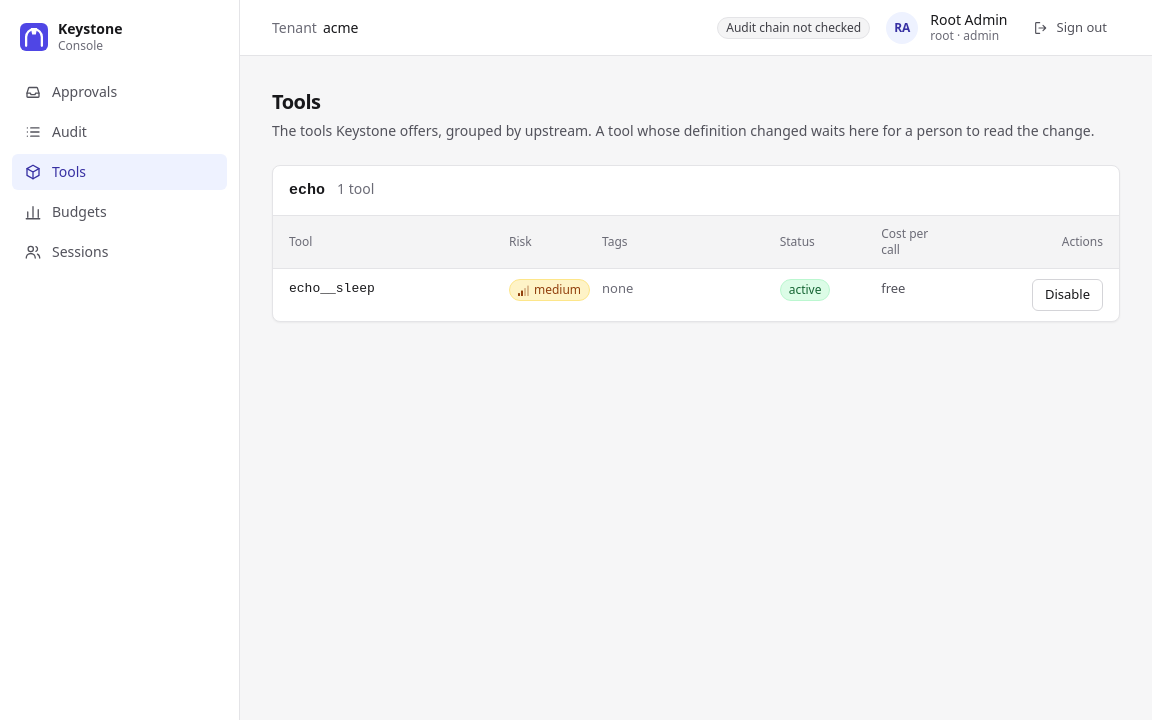
Test case: disables an active tool and enables a disabled one
Click the button with aria-label "Disable echo__sleep".
click(1068, 294)  # box [1032,278,1103,310]
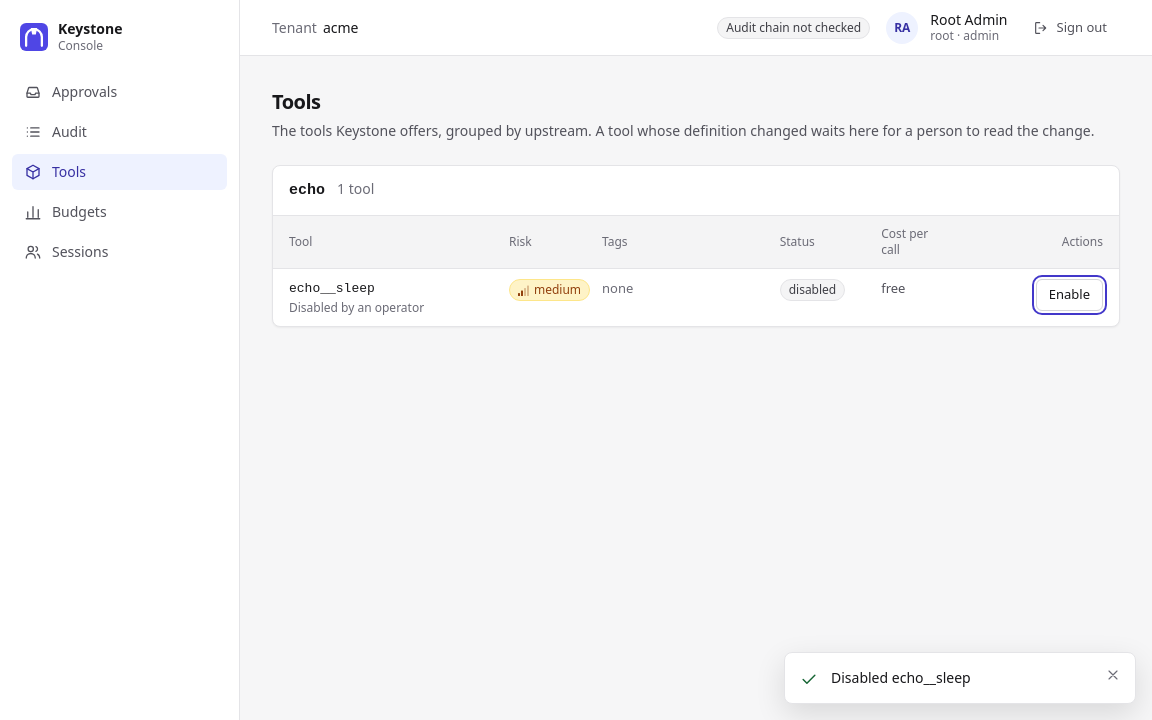
Now the text "Disabled echo__sleep" is shown, box [831,668,971,687]
Click the button with aria-label "Enable echo__sleep".
click(1069, 294)  # box [1036,278,1103,310]
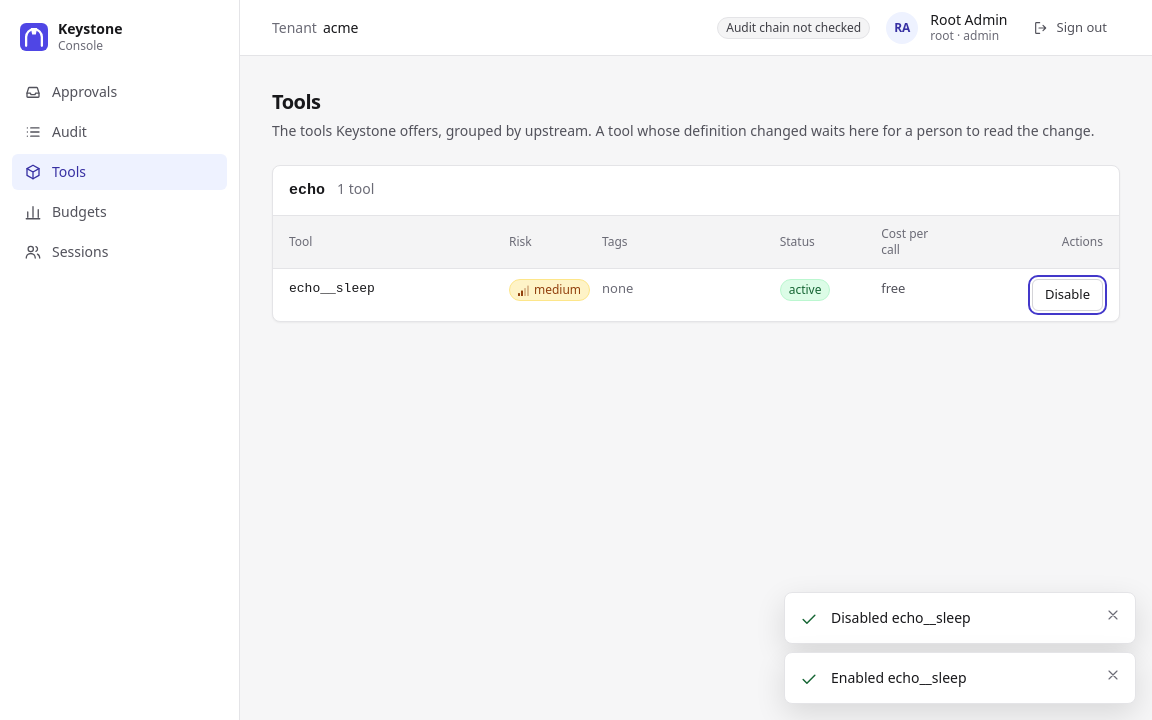
Now the button with aria-label "Disable echo__sleep" is shown, box [1032,278,1103,310]
